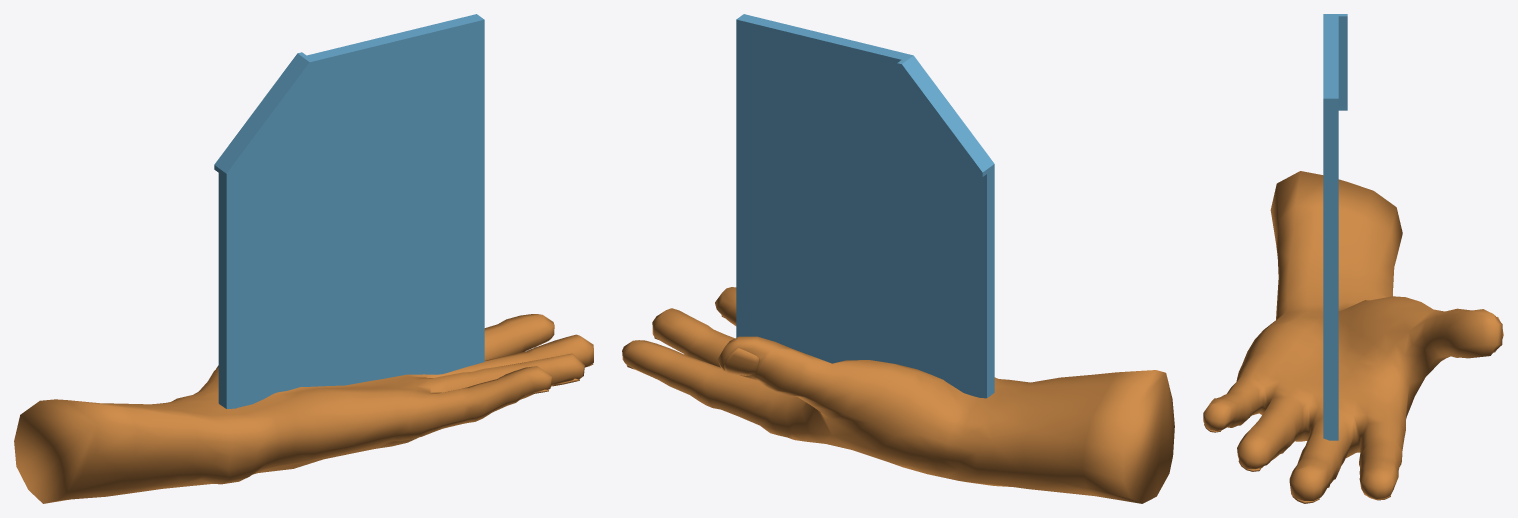
The model's file is task_icon.obj.
The picture shows the model from 3 angles, left to right: view 1: azimuth 30°, elevation 25°; view 2: azimuth 150°, elevation 25°; view 3: azimuth 270°, elevation 25°; orthographic projection. The views are drawn at different scales.
Parts seen in each view (by area): view 1: paper_立方体; view 2: paper_立方体; view 3: paper_立方体.
Part boxes in pixels (left/top/right/bottom): paper_立方体: left=14, top=14, right=593, bottom=503; paper_立方体: left=622, top=14, right=1174, bottom=503; paper_立方体: left=1203, top=14, right=1503, bottom=503.
Size of the model in its own units: 2.29 by 1.67 by 1.12.
